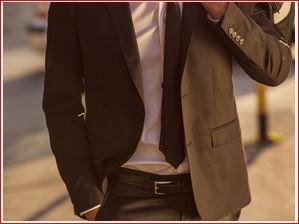F_M_suit jacket: (43, 1, 289, 206)
F_belt: (106, 164, 201, 203)
